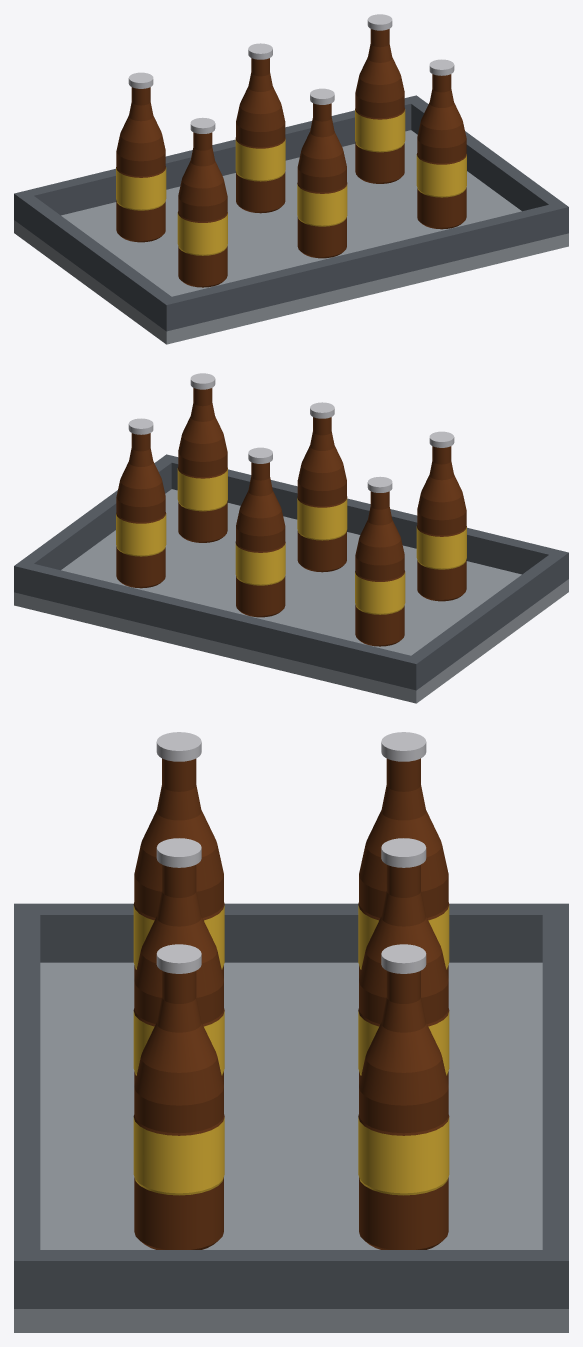
The model's file is Bandeja.obj.
The picture shows the model from 3 angles, top to bottom: view 1: azimuth 30°, elevation 25°; view 2: azimuth 150°, elevation 25°; view 3: azimuth 270°, elevation 25°; orthographic projection. The views are drawn at different scales.
Parts seen in each view (by area): view 1: Bandeja; view 2: Bandeja; view 3: Bandeja.
Part boxes in pixels (x1,y1,x2,y2): Bandeja: [14, 14, 568, 344]; Bandeja: [14, 373, 568, 703]; Bandeja: [14, 732, 568, 1332].
Bounding box in the file's own units: 0.64 × 0.256 × 0.42.
1 material, 1 textured.
